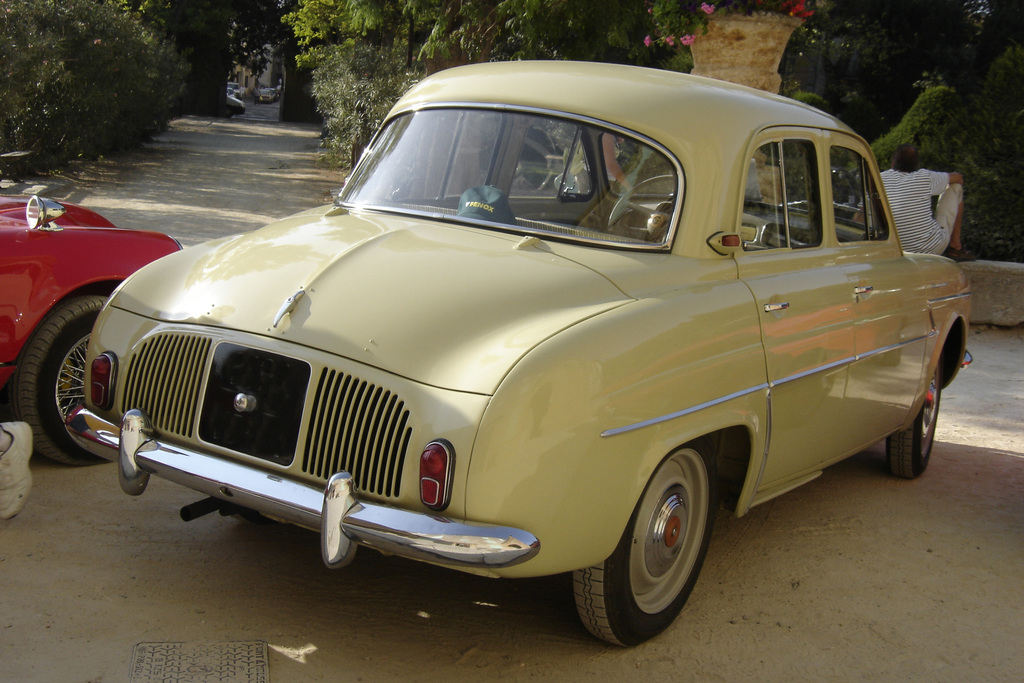Car: (68, 58, 971, 649), (0, 197, 179, 466)
